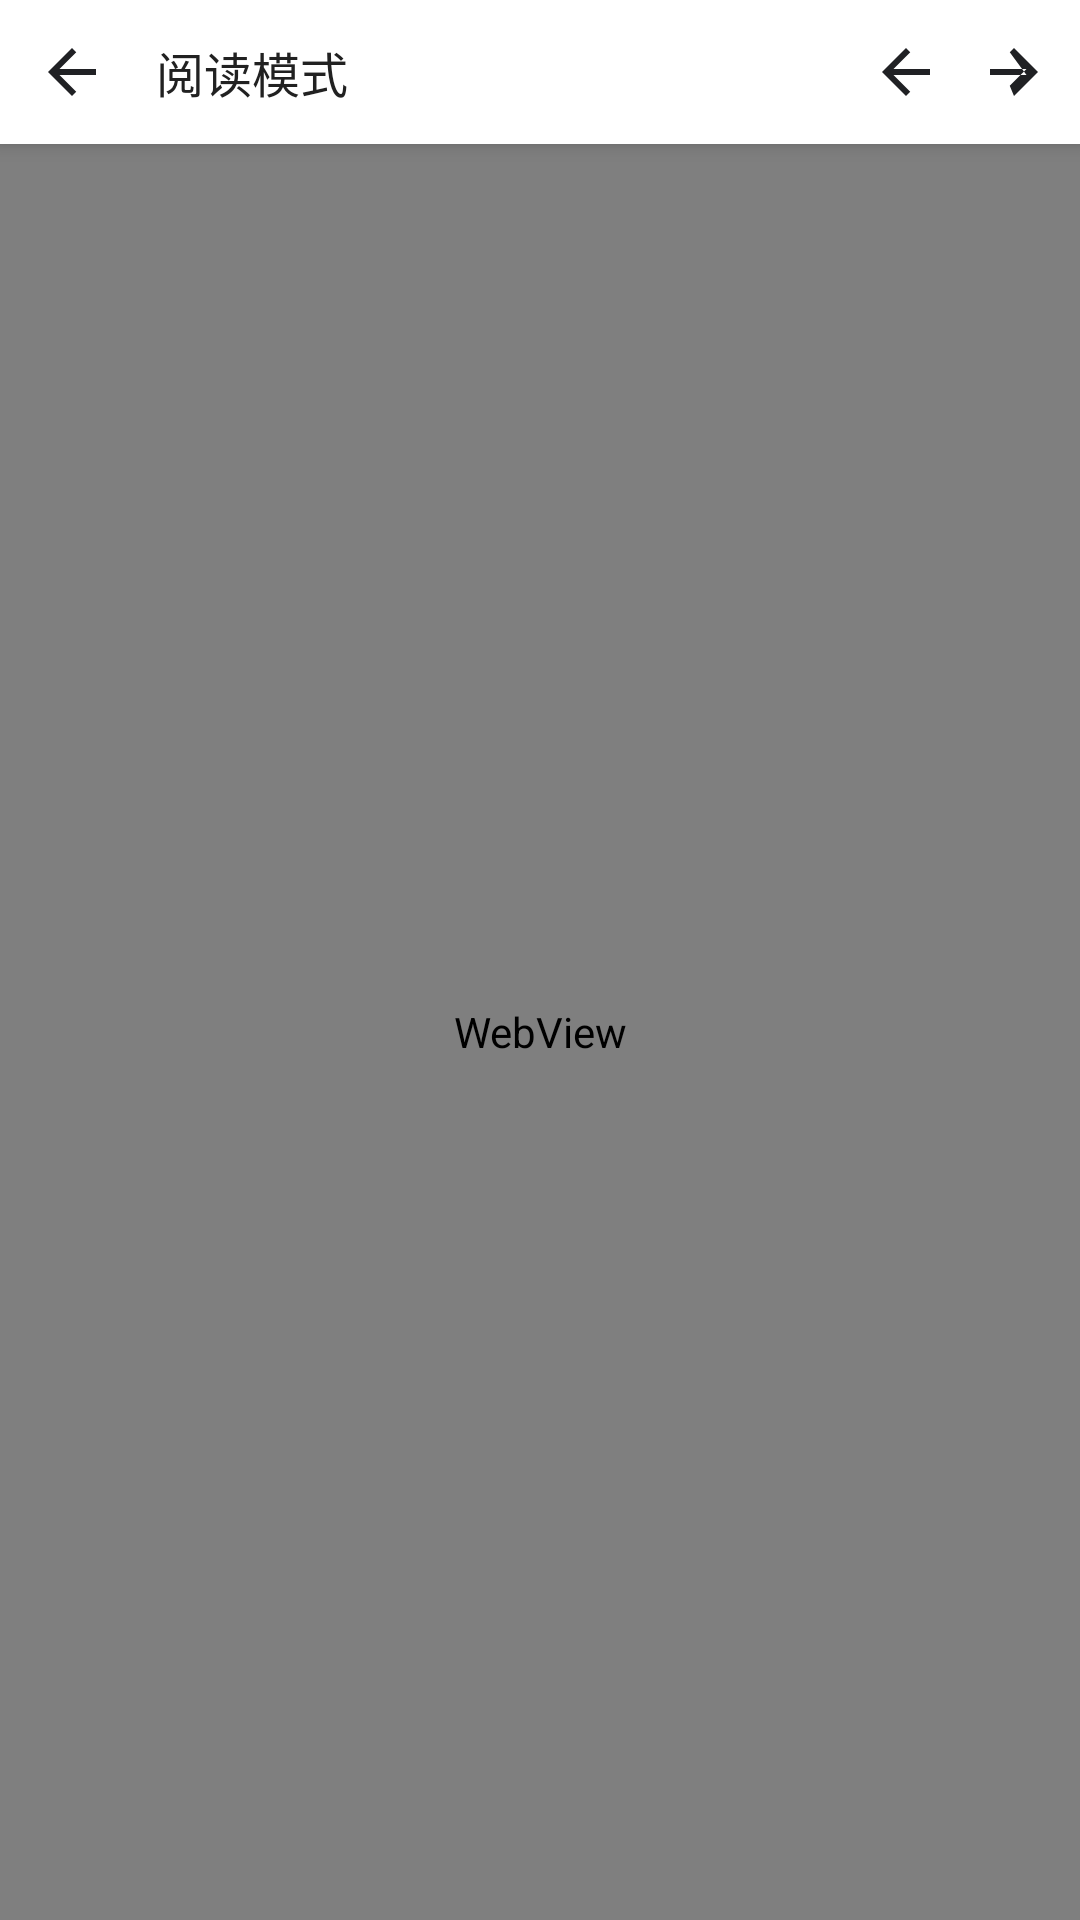

Named icons in this screenshot (1080px x 1920px) and their bounding boxes, (x1, y1, x2, y2):
返回: (48, 48, 96, 96)
